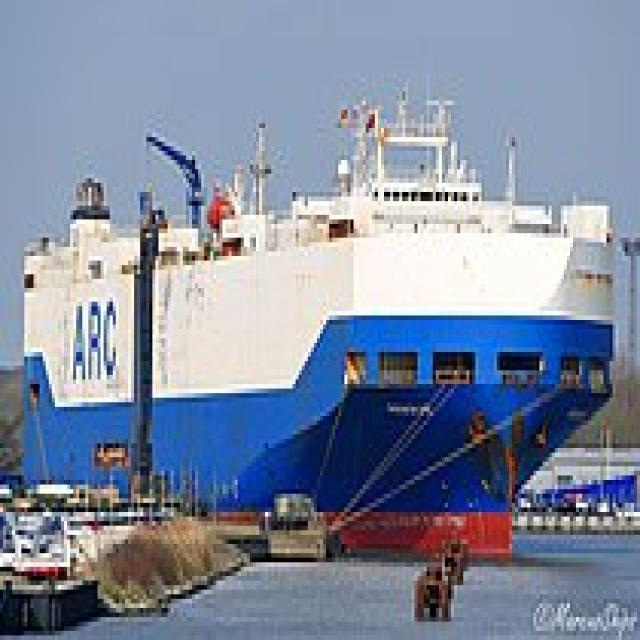Carrier: (15, 73, 616, 562)
